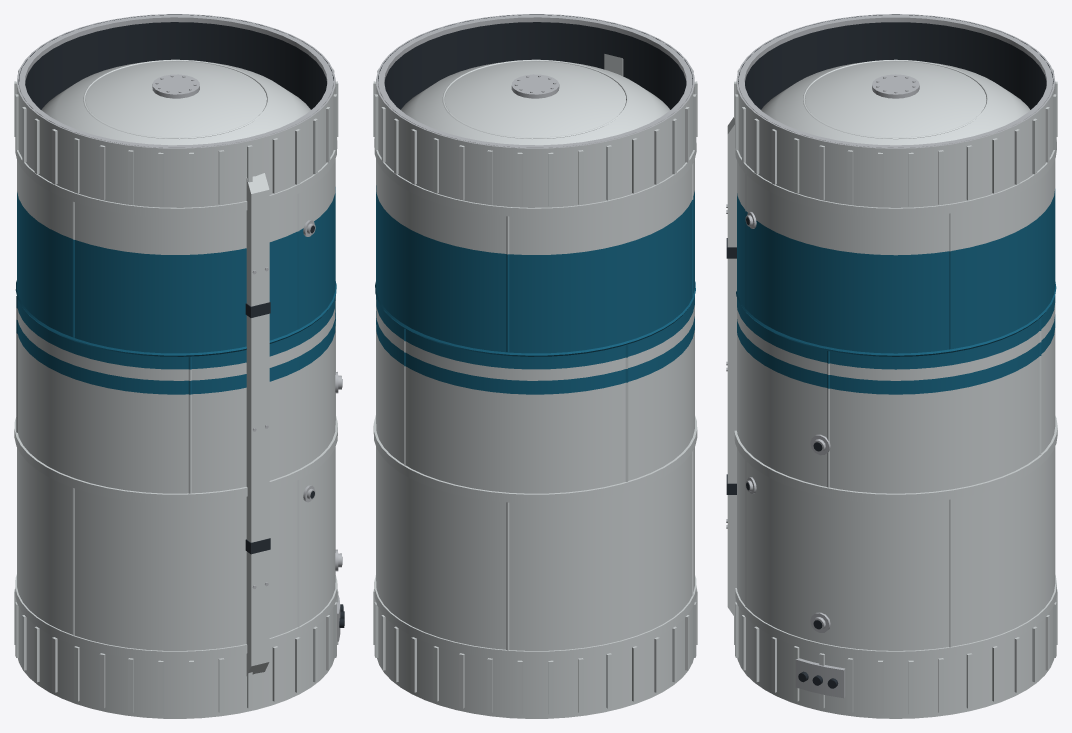
File: tank_s2_m.fbx
3 views of the same model, side by side, from view 1: azimuth 30°, elevation 25°; view 2: azimuth 150°, elevation 25°; view 3: azimuth 270°, elevation 25° (orthographic).
Parts seen in each view (by area): view 1: tank_s2_m_LOD0; view 2: tank_s2_m_LOD0; view 3: tank_s2_m_LOD0.
Boxes of the visible parts, x1=… form: tank_s2_m_LOD0: x1=14, y1=14, x2=344, y2=718; tank_s2_m_LOD0: x1=373, y1=14, x2=697, y2=718; tank_s2_m_LOD0: x1=726, y1=14, x2=1057, y2=718.
Size of what is drawn, in the model's own units: 3.76 by 7.3 by 3.85.
